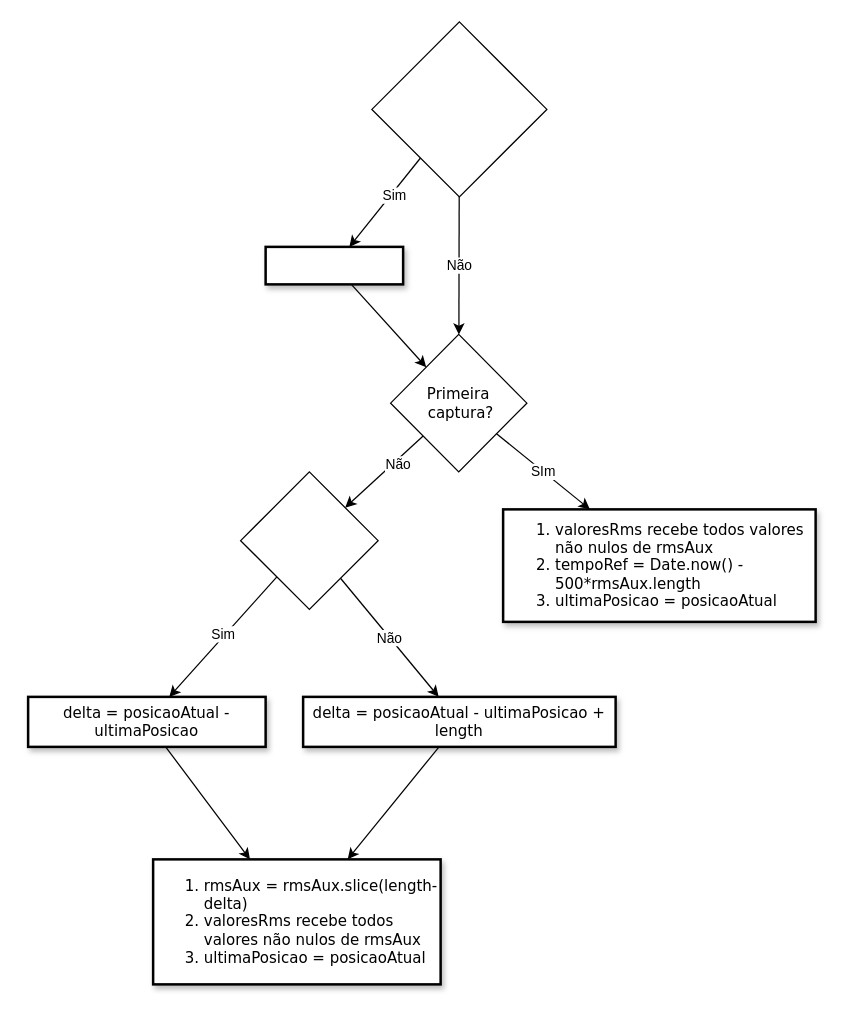
Image size: 845x1016. Some labels were removed from this diagram. The centre of each missing label's shape, as x and y in pixels:
Montar o Csv: the point at 335,267
Numero de zeros no vetor,maior do que na última requisição?: the point at 459,109
posicaoAtual > ultimaPosicao: the point at 308,540
